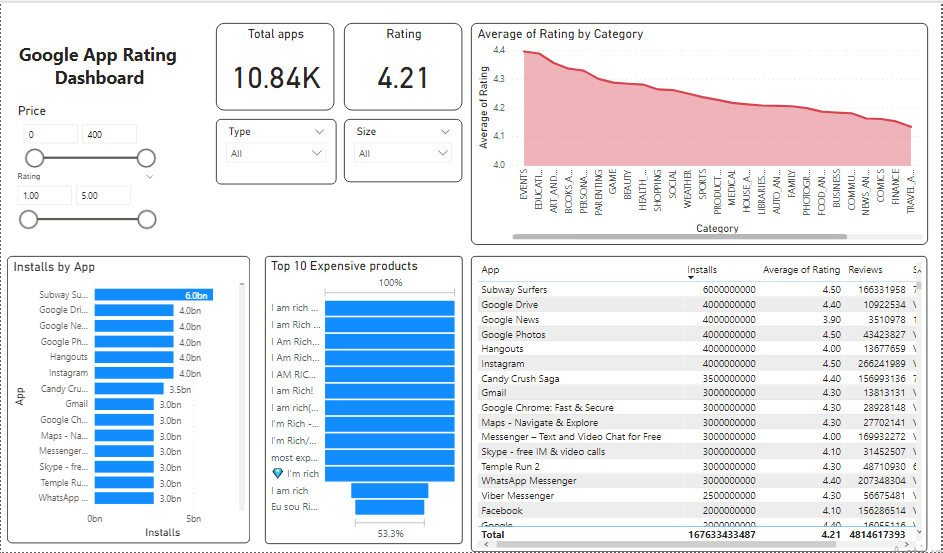

What the dashboard file says about the page in this screenshot:
{"tool":"powerbi","page":{"name":"Page 1","canvas":[1280,720],"ordinal":0},"visuals":[{"type":"card","title":"Total apps","fields":{"Values":["CountNonNull(Cleaned.App)"]},"box":[293.1,0,160.8,118.7],"z":0},{"type":"textbox","box":[18.8,20.2,229.4,103.9],"z":2000},{"type":"tableEx","fields":{"Values":["Cleaned.App","Sum(Cleaned.Installs)","Avg(Cleaned.Rating)","Sum(Cleaned.Reviews)","Cleaned.Size"]},"box":[640.3,317.2,620.8,402.8],"z":3000},{"type":"card","title":"Rating","fields":{"Values":["Avg(Cleaned.Rating)"]},"box":[467.5,0,160.8,118.7],"z":4000},{"type":"areaChart","fields":{"Y":["Avg(Cleaned.Rating)"],"Category":["Cleaned.Category"]},"box":[640,0,621.5,302.4],"z":5000},{"type":"funnel","title":"Top 10 Expensive products","fields":{"Category":["Cleaned.App"],"Y":["Avg(Cleaned.Price)"]},"box":[359.2,317.2,269.1,392.3],"z":6000},{"type":"slicer","title":"Price","fields":{"Values":["Cleaned.Price"]},"box":[18,108.2,201.4,111.2],"z":7000},{"type":"slicer","fields":{"Values":["Cleaned.Type"]},"box":[293.1,130.8,163.8,88.7],"z":8000},{"type":"slicer","fields":{"Values":["Cleaned.Rating"]},"box":[9,196.9,210.4,105.2],"z":9000},{"type":"slicer","fields":{"Values":["Cleaned.Size"]},"box":[467.5,130.8,160.8,85.7],"z":10000},{"type":"clusteredBarChart","fields":{"Y":["Sum(Cleaned.Installs)"],"Category":["Cleaned.App"]},"box":[8.4,317.5,330.9,391.4],"z":10001}]}

Visuals, with their boxes in screenshot pixels (x1, y1, x2, y2):
"Total apps" card: bbox=[218, 22, 335, 108]
textbox: bbox=[19, 37, 185, 112]
tableEx - Cleaned.App x Sum(Cleaned.Installs): bbox=[470, 253, 921, 545]
"Rating" card: bbox=[345, 22, 461, 108]
areaChart - Avg(Cleaned.Rating) x Cleaned.Category: bbox=[470, 22, 921, 242]
"Top 10 Expensive products" funnel: bbox=[266, 253, 461, 538]
"Price" slicer: bbox=[18, 101, 164, 182]
slicer - Cleaned.Type: bbox=[218, 117, 337, 182]
slicer - Cleaned.Rating: bbox=[11, 165, 164, 242]
slicer - Cleaned.Size: bbox=[345, 117, 461, 179]
clusteredBarChart - Sum(Cleaned.Installs) x Cleaned.App: bbox=[11, 253, 251, 537]
